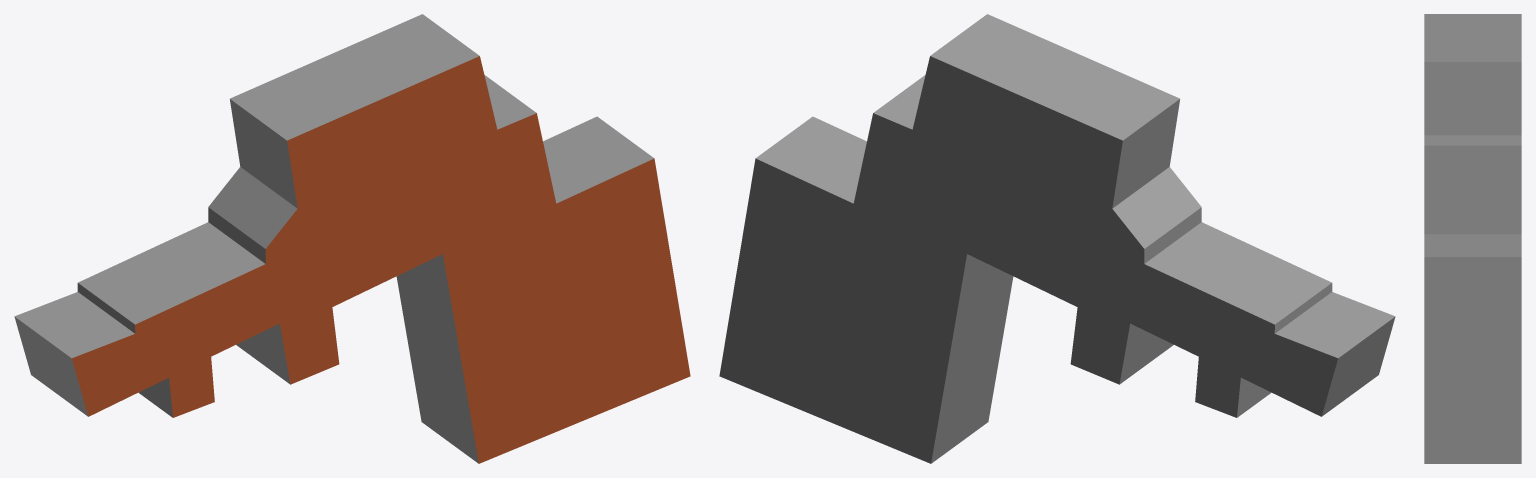
Rendered from construction_6324_assumed_A_Casa_h6m.obj.
3 renders of one model, left to right at view 1: azimuth 30°, elevation 25°; view 2: azimuth 150°, elevation 25°; view 3: azimuth 270°, elevation 25°, orthographic. The views are drawn at different scales.
Parts seen in each view (by area): view 1: construction_6324_assumed_A_Casa; view 2: construction_6324_assumed_A_Casa; view 3: construction_6324_assumed_A_Casa.
Boxes of the visible parts, x1=… form: construction_6324_assumed_A_Casa: x1=14, y1=14, x2=690, y2=463; construction_6324_assumed_A_Casa: x1=719, y1=14, x2=1395, y2=463; construction_6324_assumed_A_Casa: x1=1424, y1=14, x2=1521, y2=463.
Bounding box in the file's own units: 37.37 × 23.53 × 6.
